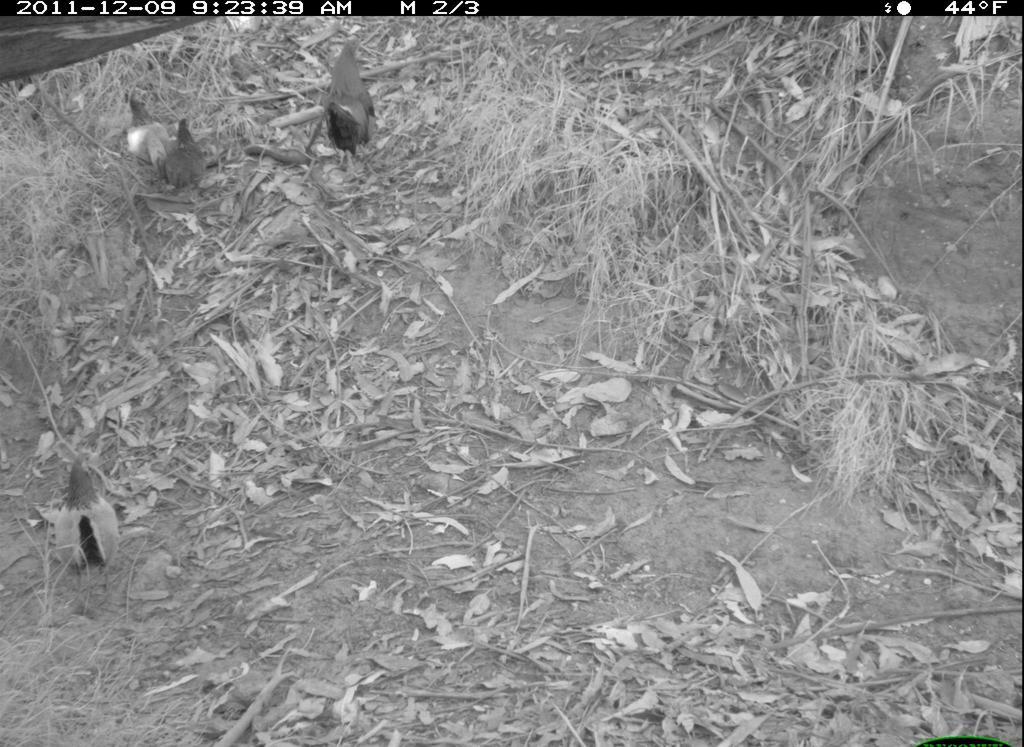bird: (45, 446, 132, 591), (316, 34, 384, 161), (161, 114, 211, 199)
